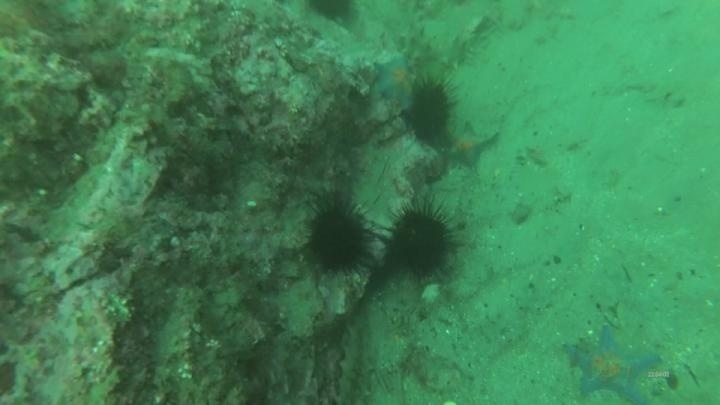echinus: (301, 193, 376, 279), (382, 200, 461, 281), (402, 75, 459, 145), (304, 0, 361, 27)
holothurian: (399, 16, 495, 74), (334, 317, 378, 405)
starfish: (564, 324, 662, 403), (443, 120, 500, 172), (370, 52, 419, 112)
